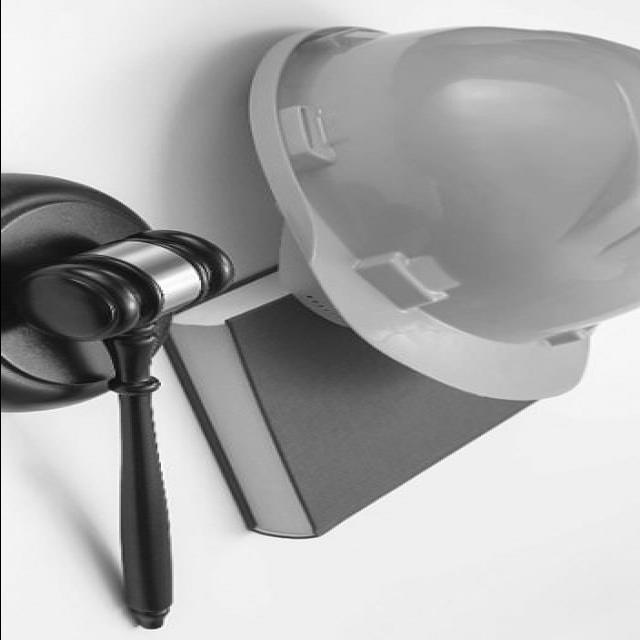safety_helmet: (244, 25, 640, 401)
